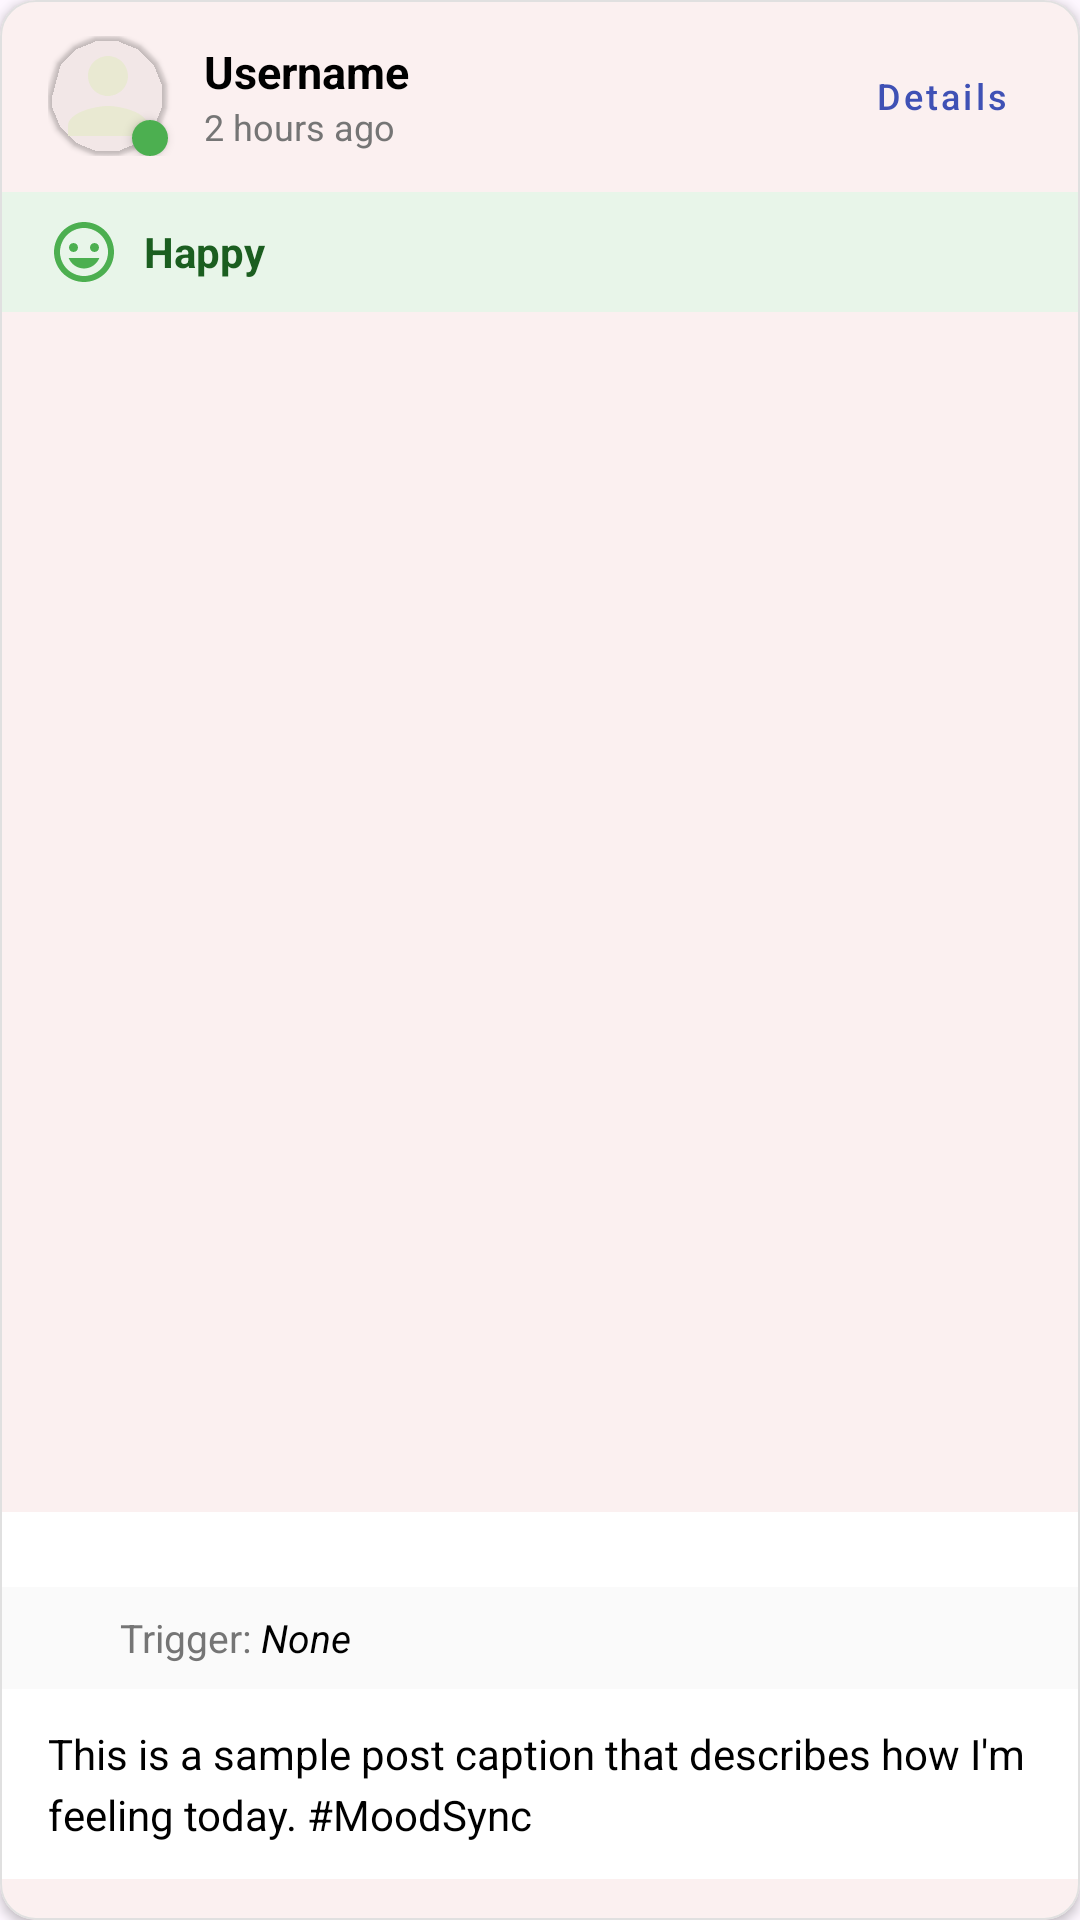

Where icons sit on this 1080×1920 app screen, as (x1, y1, x2, y2):
mood: (54, 222, 114, 282)
person: (48, 36, 168, 156)
